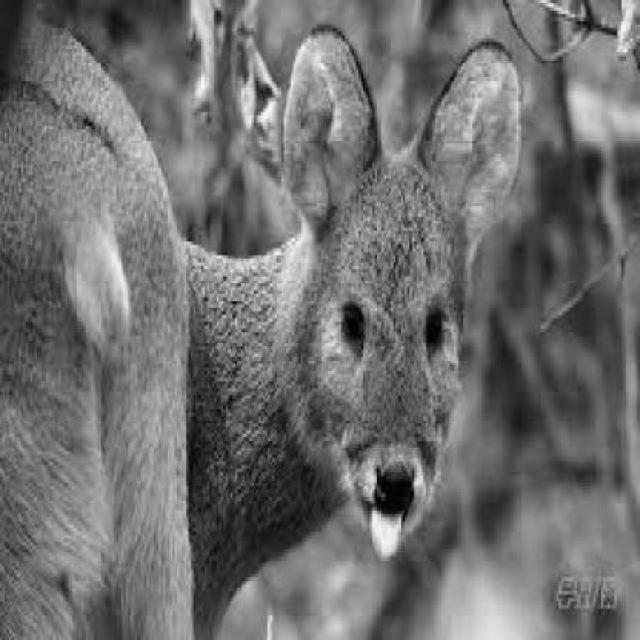Deer: (159, 22, 527, 600)
